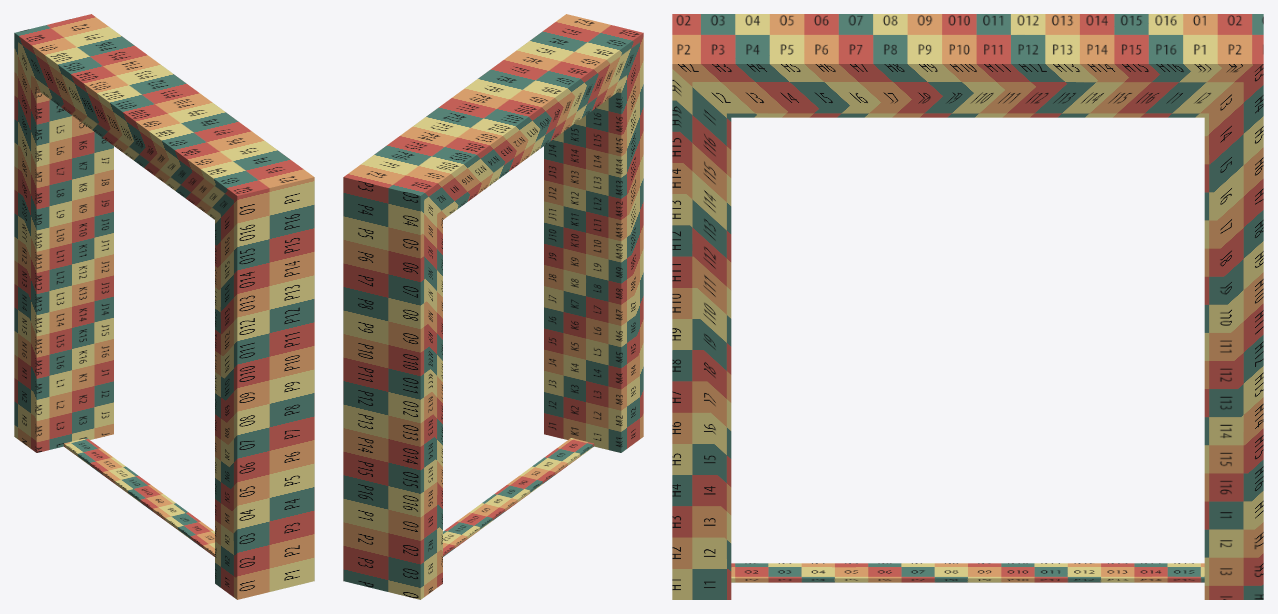
Rendered from Doorway.fbx.
3 views of the same model, side by side, from view 1: azimuth 30°, elevation 25°; view 2: azimuth 150°, elevation 25°; view 3: azimuth 270°, elevation 25° (orthographic). The views are drawn at different scales.
Visible parts, largest first — view 1: Doorway; view 2: Doorway; view 3: Doorway.
Boxes of the visible parts, x1,y1,x2,y2 form: Doorway: (14,14,314,599); Doorway: (343,14,643,599); Doorway: (672,14,1263,599).
Bounding box in the file's own units: 40 × 200 × 200.
